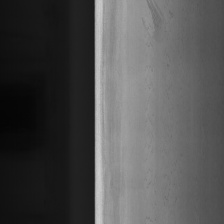water_spot: (145, 64, 180, 214), (139, 0, 176, 47)
